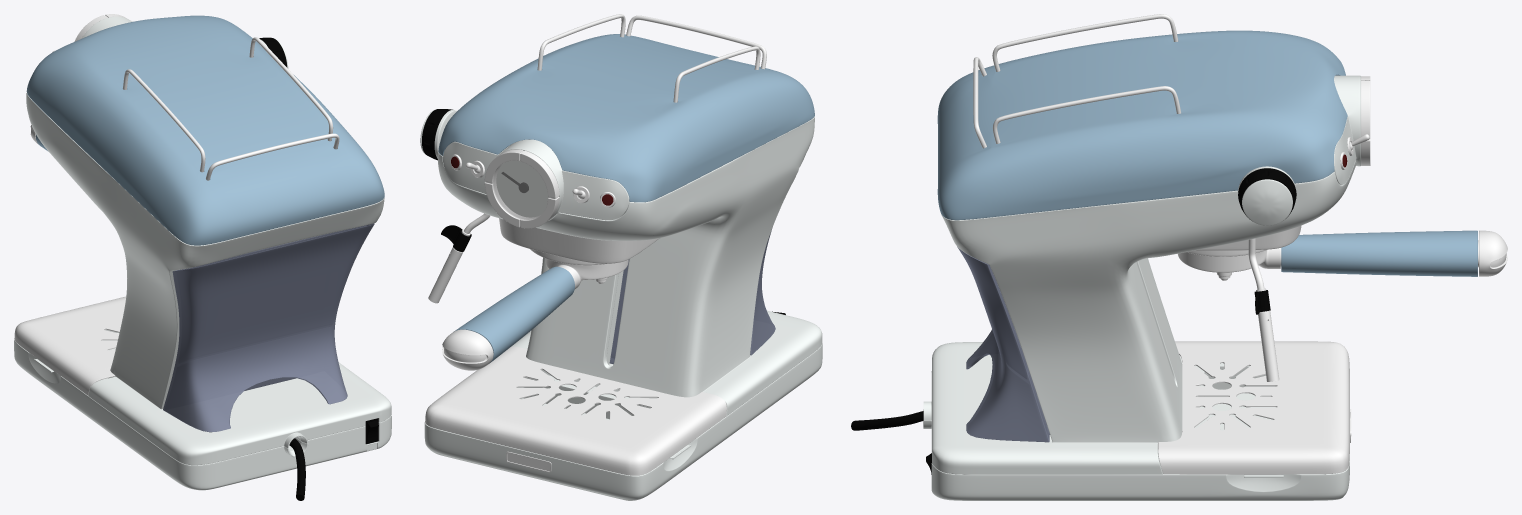
Rendered from coffee.glb.
3 views of the same model, side by side, from view 1: azimuth 30°, elevation 25°; view 2: azimuth 150°, elevation 25°; view 3: azimuth 270°, elevation 25° (orthographic). The views are drawn at different scales.
Parts seen in each view (by area): view 1: top_panel, main_body, tray, base, grate, tophandle2, tophandle, tophandle1, cable; view 2: main_body, top_panel, grate, base, meter_base, handleplastic, dispenser_base, window, circle, handletip, tray, dispenser_attachment (+8 smaller); view 3: top_panel, main_body, grate, base, handleplastic, tray, knob, meter_base, dispenser_attachment, thing, tophandle1, handletip (+6 smaller).
Boxes of the visible parts, bbox=[...] form: top_panel: bbox=[26, 15, 384, 245]; main_body: bbox=[26, 92, 391, 465]; tray: bbox=[163, 223, 374, 432]; base: bbox=[14, 339, 391, 490]; grate: bbox=[14, 296, 126, 395]; tophandle2: bbox=[206, 133, 339, 180]; tophandle: bbox=[123, 69, 205, 172]; tophandle1: bbox=[249, 37, 333, 141]; cable: bbox=[289, 438, 305, 500]; main_body: bbox=[438, 116, 822, 416]; top_panel: bbox=[438, 34, 814, 202]; grate: bbox=[425, 346, 726, 475]; base: bbox=[424, 343, 822, 500]; meter_base: bbox=[443, 139, 629, 220]; handleplastic: bbox=[454, 266, 574, 363]; dispenser_base: bbox=[499, 218, 659, 263]; window: bbox=[493, 160, 548, 219]; circle: bbox=[484, 149, 559, 228]; handletip: bbox=[442, 329, 493, 370]; tray: bbox=[609, 230, 775, 364]; dispenser_attachment: bbox=[545, 258, 628, 289]; top_panel: bbox=[937, 30, 1347, 220]; main_body: bbox=[923, 160, 1356, 474]; grate: bbox=[1158, 341, 1349, 474]; base: bbox=[923, 368, 1349, 500]; handleplastic: bbox=[1281, 230, 1477, 276]; tray: bbox=[957, 246, 1049, 442]; knob: bbox=[1238, 166, 1296, 225]; meter_base: bbox=[1334, 75, 1360, 184]; dispenser_attachment: bbox=[1178, 248, 1281, 280]; thing: bbox=[1248, 238, 1279, 381]; tophandle1: bbox=[992, 86, 1181, 143]; handletip: bbox=[1478, 230, 1507, 276].
Bounding box in the file's own units: 0.756 × 1.04 × 1.55.
